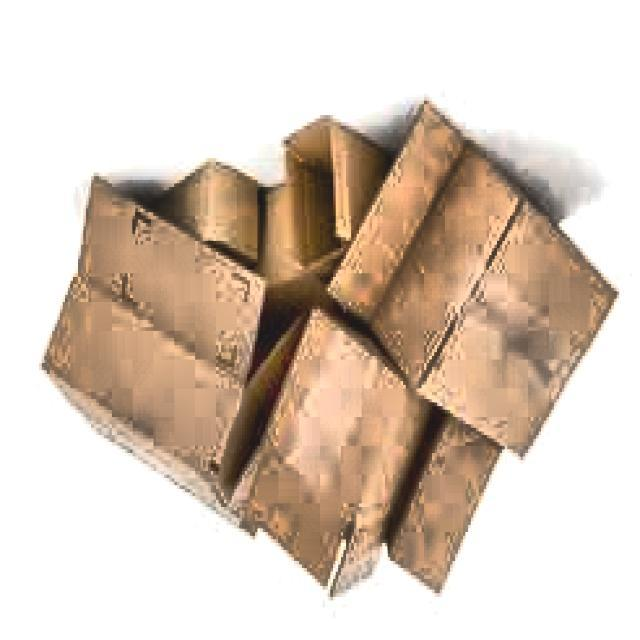cardboard: (41, 104, 622, 604)
